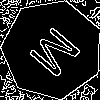M: (27, 24, 90, 87)
